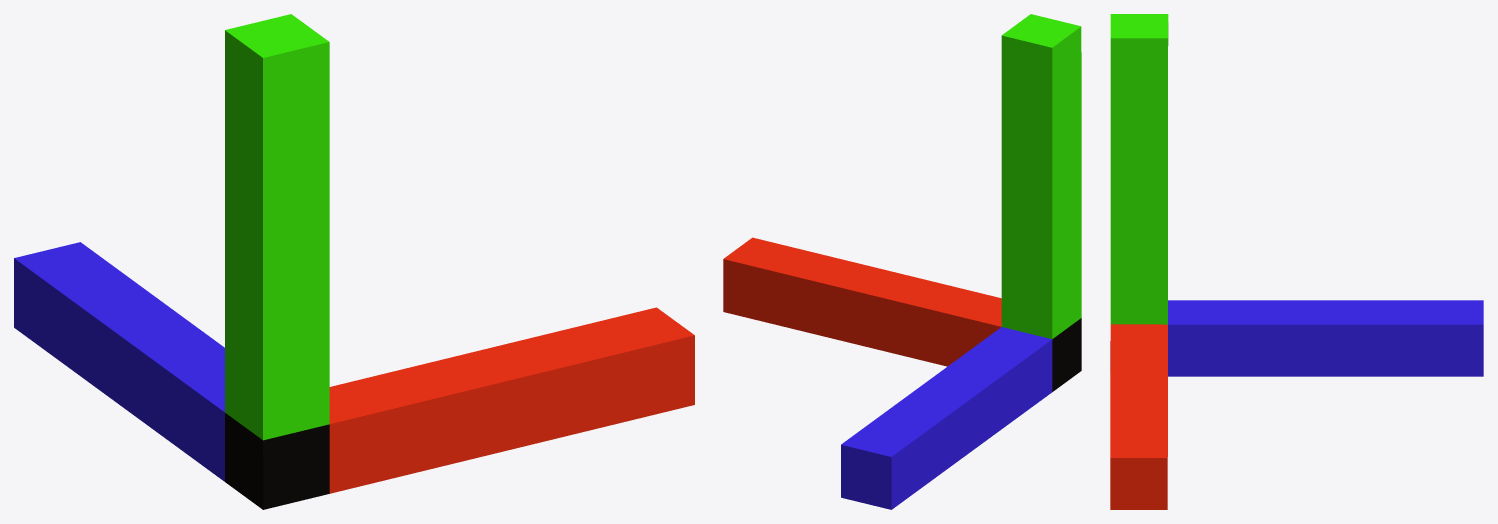
Rendered from xyz_1x1m.glb.
3 renders of one model, left to right at view 1: azimuth 30°, elevation 25°; view 2: azimuth 150°, elevation 25°; view 3: azimuth 270°, elevation 25°, orthographic. The views are drawn at different scales.
Parts seen in each view (by area): view 1: Cube; view 2: Cube; view 3: Cube.
Part boxes in pixels (left/top/right/bottom): Cube: left=14, top=14, right=694, bottom=509; Cube: left=723, top=14, right=1081, bottom=509; Cube: left=1110, top=14, right=1483, bottom=509.
Size of the model in its own units: 13 by 13.01 by 13.01.
Materials: 1 (1 with a texture image).
